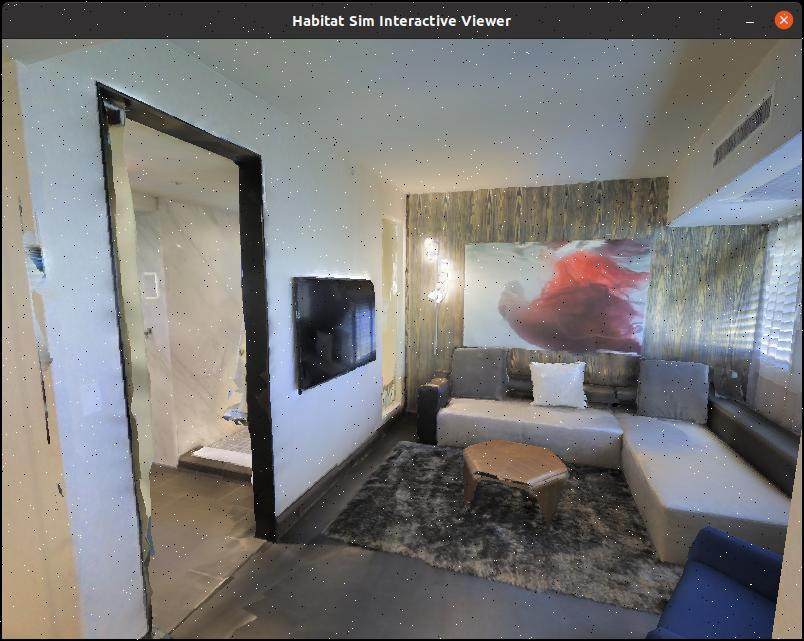sofa: (417, 329, 804, 588)
table: (454, 418, 579, 528)
